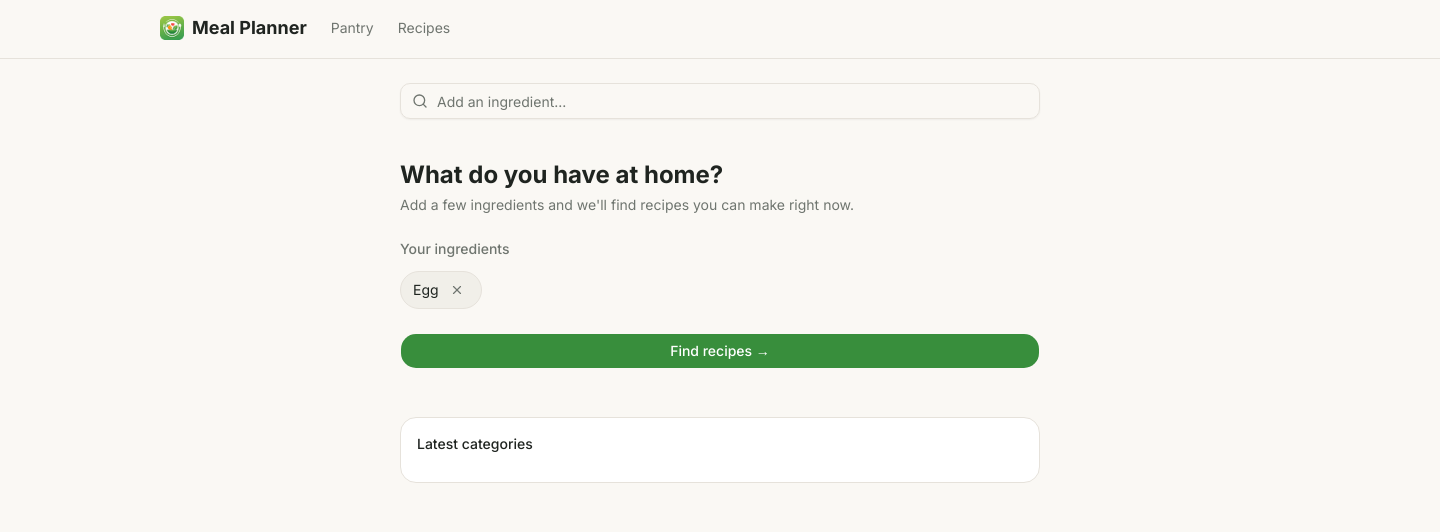
Test: App › requests matches only after Find recipes is pressed
The width and height of the screenshot is (1440, 532).
Click the button "Find recipes →". click: (720, 351)
box: x1=400 y1=333 x2=1040 y2=369
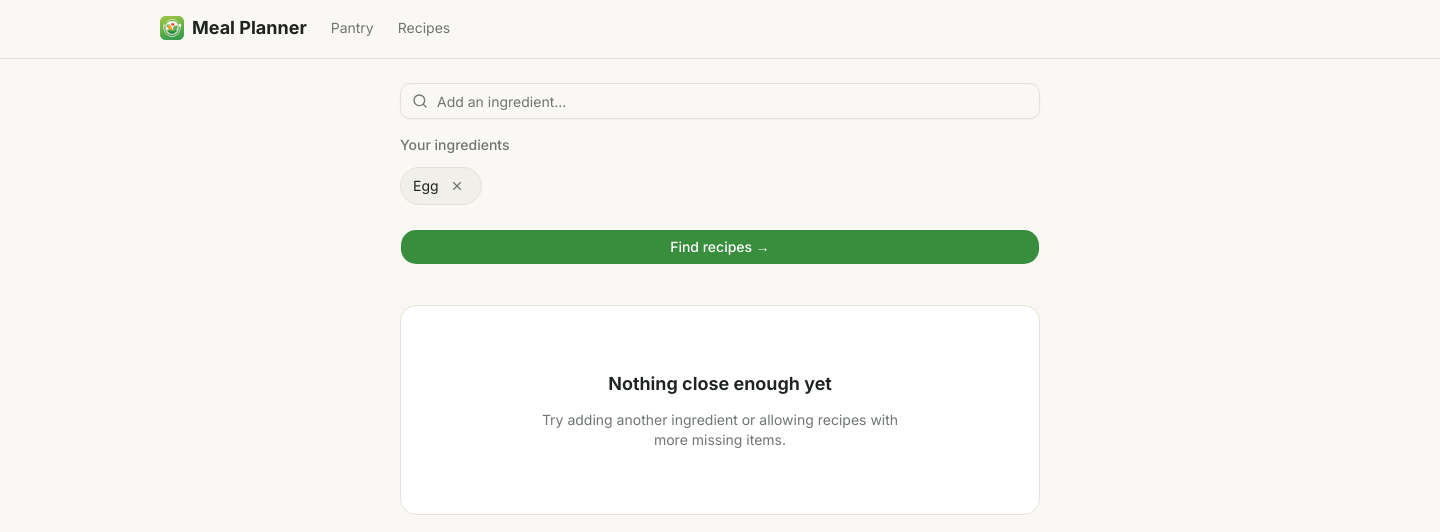
Expected: the heading "Nothing close enough yet" is shown, x1=608 y1=370 x2=832 y2=398
